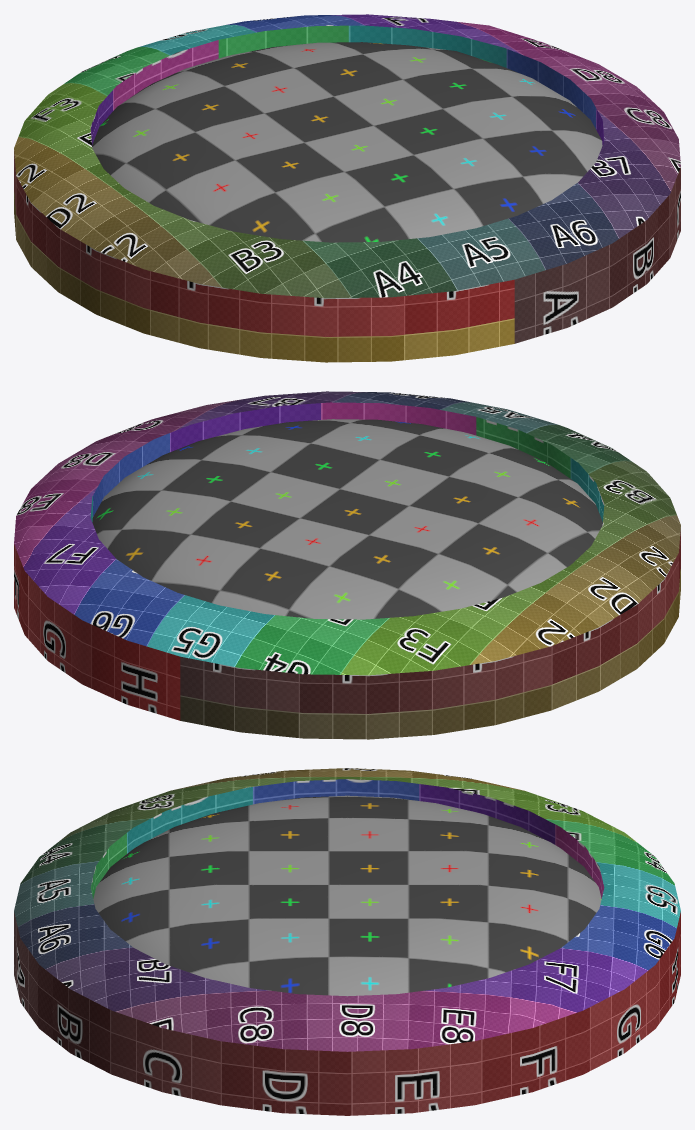
Rendered from button.gltf.
3 renders of one model, top to bottom at view 1: azimuth 30°, elevation 25°; view 2: azimuth 150°, elevation 25°; view 3: azimuth 270°, elevation 25°, orthographic.
Visible parts, largest first — view 1: button_pad; view 2: button_pad; view 3: button_pad.
Part boxes in pixels (x1,y1,x2,y2): button_pad: [14, 14, 680, 362]; button_pad: [14, 391, 680, 739]; button_pad: [14, 768, 680, 1115].
Size of the model in its own units: 2.63 by 0.4281 by 2.63.
Materials: 2 (2 with a texture image).
